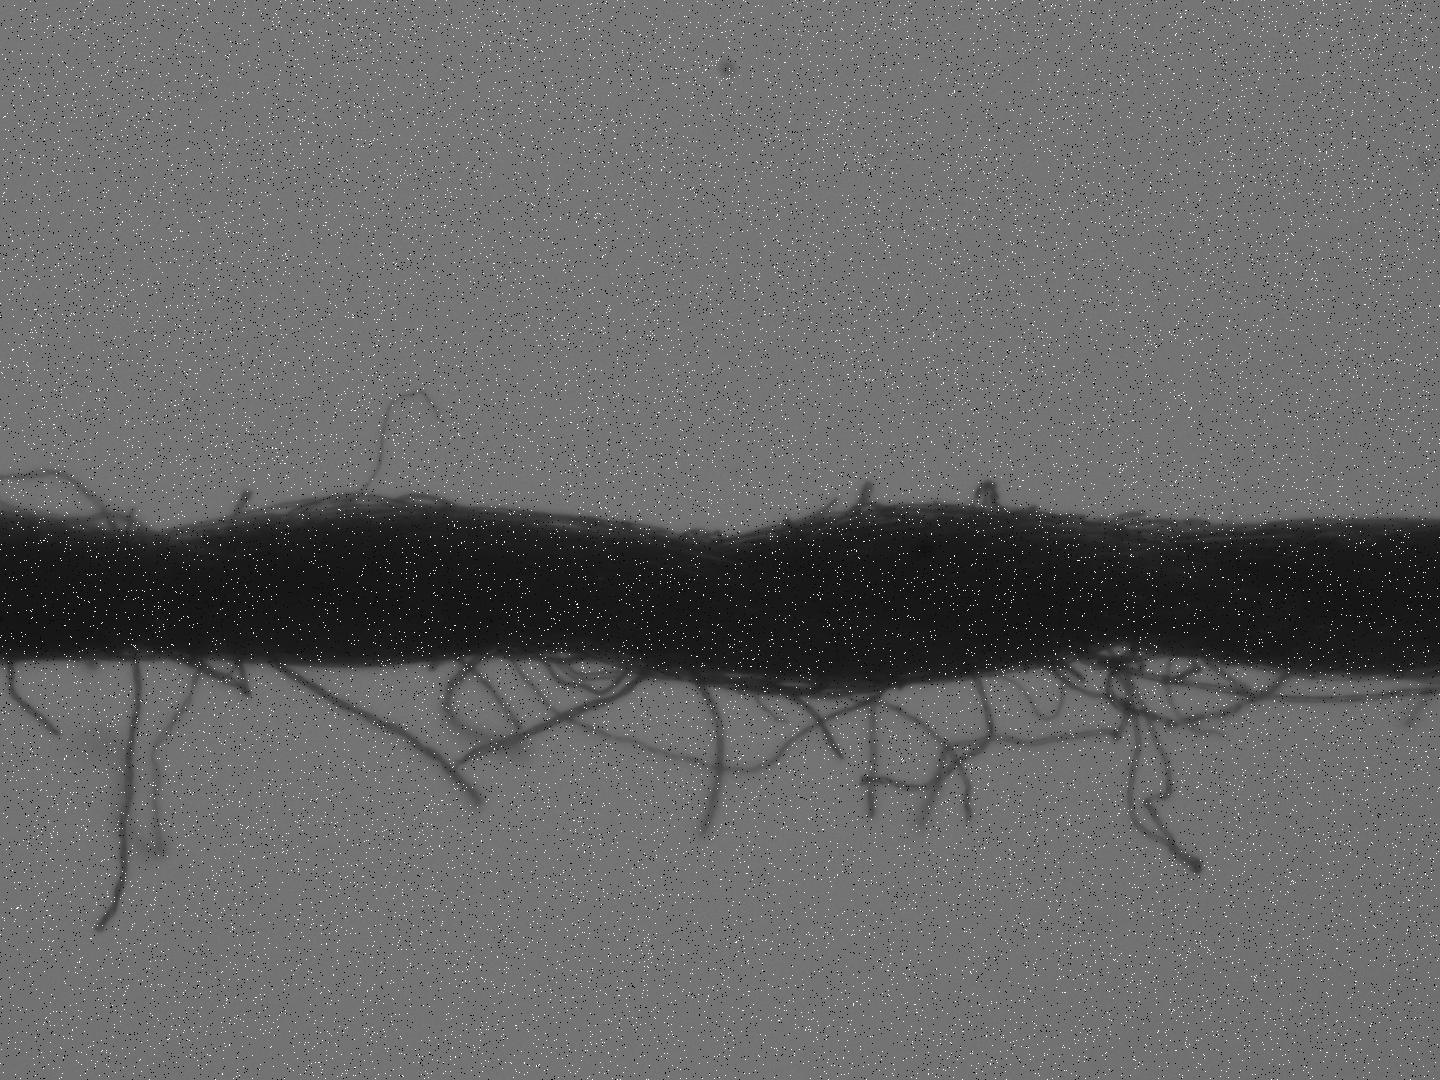loop_fiber: (511, 656, 872, 776), (1091, 652, 1431, 706), (1102, 643, 1284, 726), (270, 495, 404, 525), (159, 653, 253, 695), (542, 649, 627, 692), (556, 651, 639, 683), (715, 675, 823, 698), (60, 511, 156, 534), (376, 495, 451, 520), (1120, 517, 1204, 535), (501, 651, 583, 666)
protruding_fiber: (268, 660, 478, 804), (450, 674, 654, 776), (841, 690, 974, 825), (88, 661, 145, 935), (865, 678, 994, 790), (341, 394, 442, 506), (768, 676, 847, 761), (693, 678, 727, 836), (6, 663, 62, 737), (222, 489, 259, 532)
